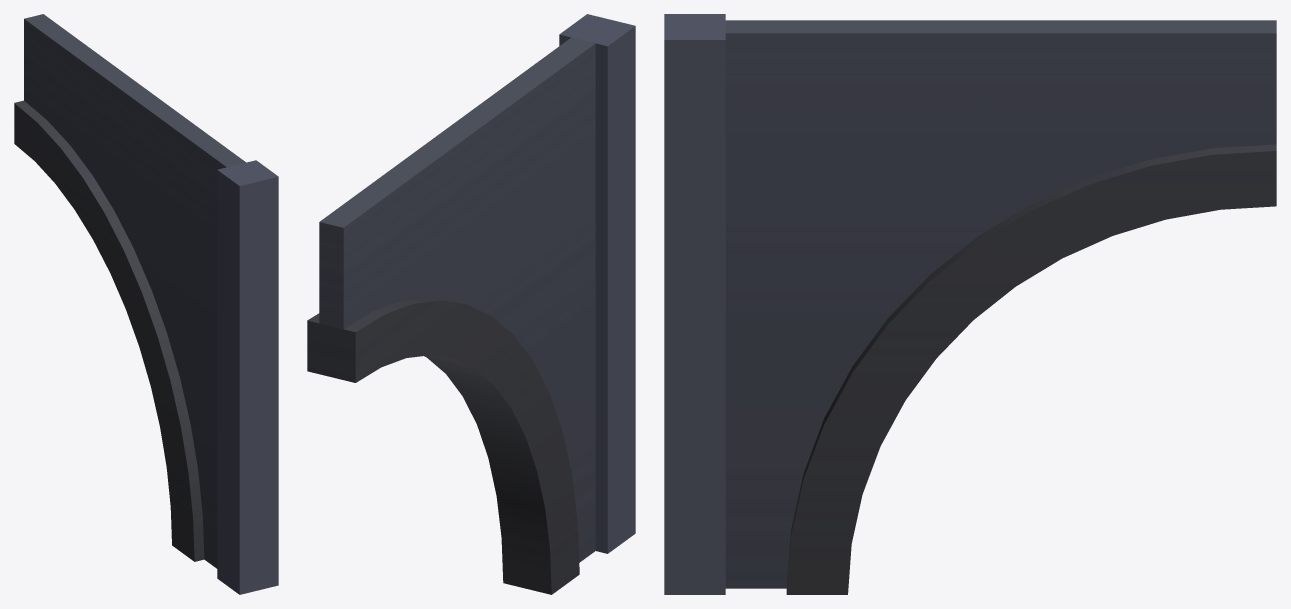
File: wall-arch-top.glb
3 views of the same model, side by side, from view 1: azimuth 30°, elevation 25°; view 2: azimuth 150°, elevation 25°; view 3: azimuth 270°, elevation 25° (orthographic). The views are drawn at different scales.
Parts seen in each view (by area): view 1: wall-arch-top; view 2: wall-arch-top; view 3: wall-arch-top.
Part boxes in pixels (bbox=[...]): wall-arch-top: bbox=[14, 14, 278, 594]; wall-arch-top: bbox=[307, 14, 635, 594]; wall-arch-top: bbox=[664, 14, 1276, 594].
Bounding box in the file's own units: 0.1 × 1 × 1.
1 material, 1 textured.
